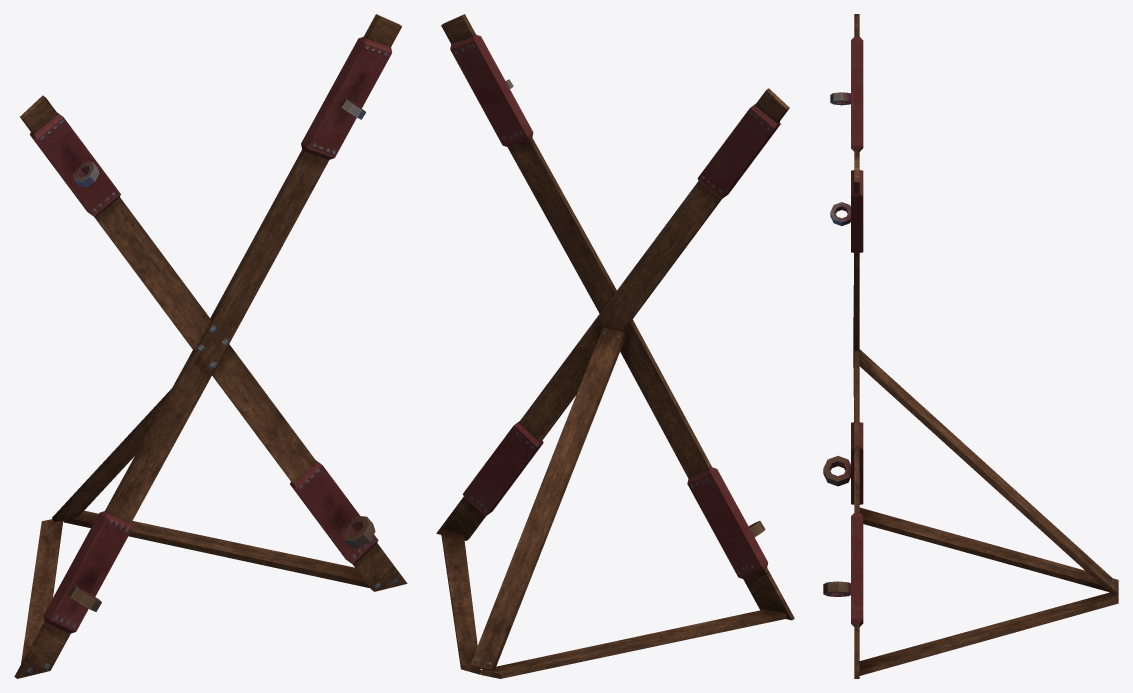
The model's file is StAndrewsCross.fbx.
3 views of the same model, side by side, from view 1: azimuth 30°, elevation 25°; view 2: azimuth 150°, elevation 25°; view 3: azimuth 270°, elevation 25° (orthographic). The views are drawn at different scales.
Parts seen in each view (by area): view 1: StAndrewCross; view 2: StAndrewCross; view 3: StAndrewCross.
Boxes of the visible parts, x1,y1,x2,y2 form: StAndrewCross: (14, 14, 407, 678); StAndrewCross: (436, 14, 794, 678); StAndrewCross: (823, 14, 1118, 678).
Bounding box in the file's own units: 478 × 673 × 354.
